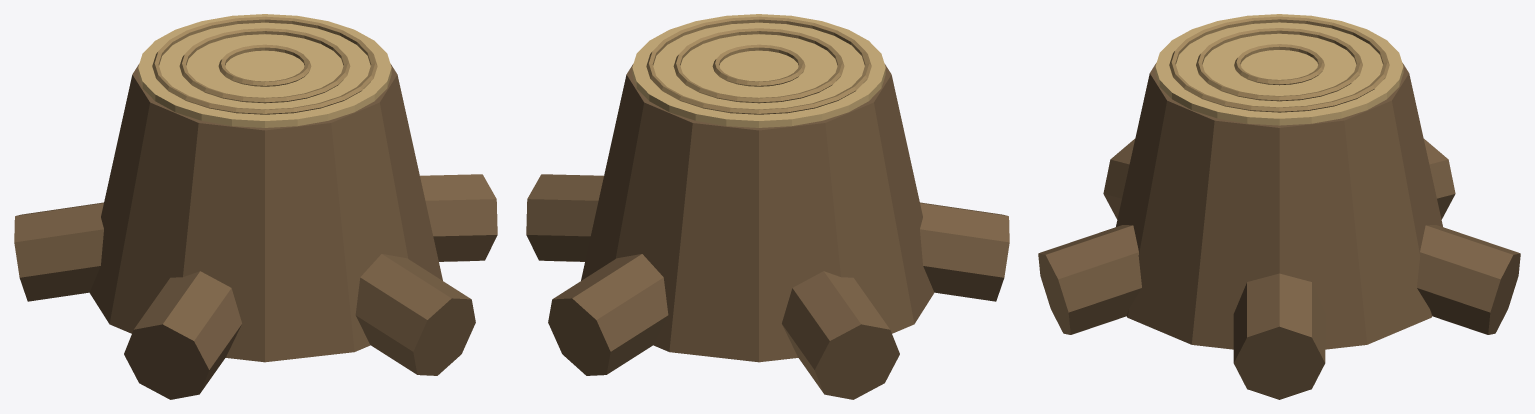
Rendered from stump.glb.
3 renders of one model, left to right at view 1: azimuth 30°, elevation 25°; view 2: azimuth 150°, elevation 25°; view 3: azimuth 270°, elevation 25°, orthographic. The views are drawn at different scales.
Parts seen in each view (by area): view 1: Keep_Mesh; view 2: Keep_Mesh; view 3: Keep_Mesh.
Boxes of the visible parts, x1,y1,x2,y2 form: Keep_Mesh: (14, 14, 497, 399); Keep_Mesh: (526, 14, 1009, 399); Keep_Mesh: (1038, 14, 1520, 399).
Size of the model in its own units: 1.22 by 0.699 by 1.26.
